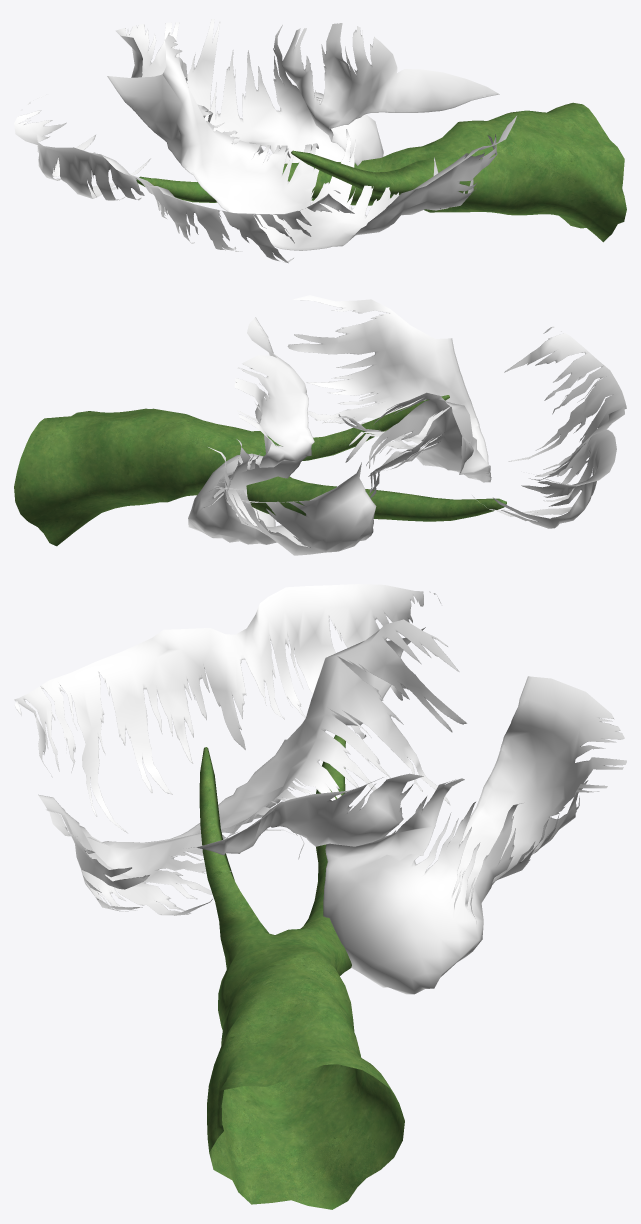
File: SM_ENV_KNFRST_Leaf_G.FBX
3 renders of one model, top to bottom at view 1: azimuth 30°, elevation 25°; view 2: azimuth 150°, elevation 25°; view 3: azimuth 270°, elevation 25°, orthographic. The views are drawn at different scales.
Visible parts, largest first — view 1: SM_ENV_KNFRST_Leaf_G; view 2: SM_ENV_KNFRST_Leaf_G; view 3: SM_ENV_KNFRST_Leaf_G.
Boxes of the visible parts, x1,y1,x2,y2 form: SM_ENV_KNFRST_Leaf_G: (14,19,626,263); SM_ENV_KNFRST_Leaf_G: (14,295,626,555); SM_ENV_KNFRST_Leaf_G: (14,584,626,1209).
Bounding box in the file's own units: 4058 × 1818 × 2934.
